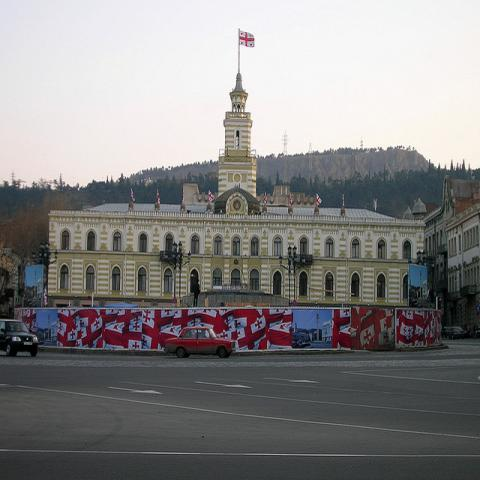car: (164, 326, 236, 361), (0, 319, 39, 360), (448, 327, 465, 340), (441, 326, 451, 338), (474, 326, 479, 339)
